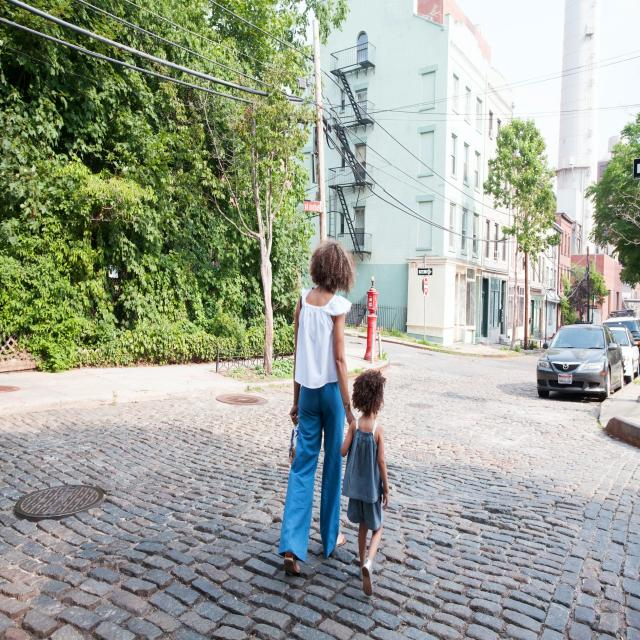adult: (278, 241, 357, 574)
child: (337, 367, 391, 592)
